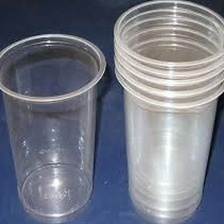glass: (110, 0, 224, 224), (0, 26, 111, 224)
